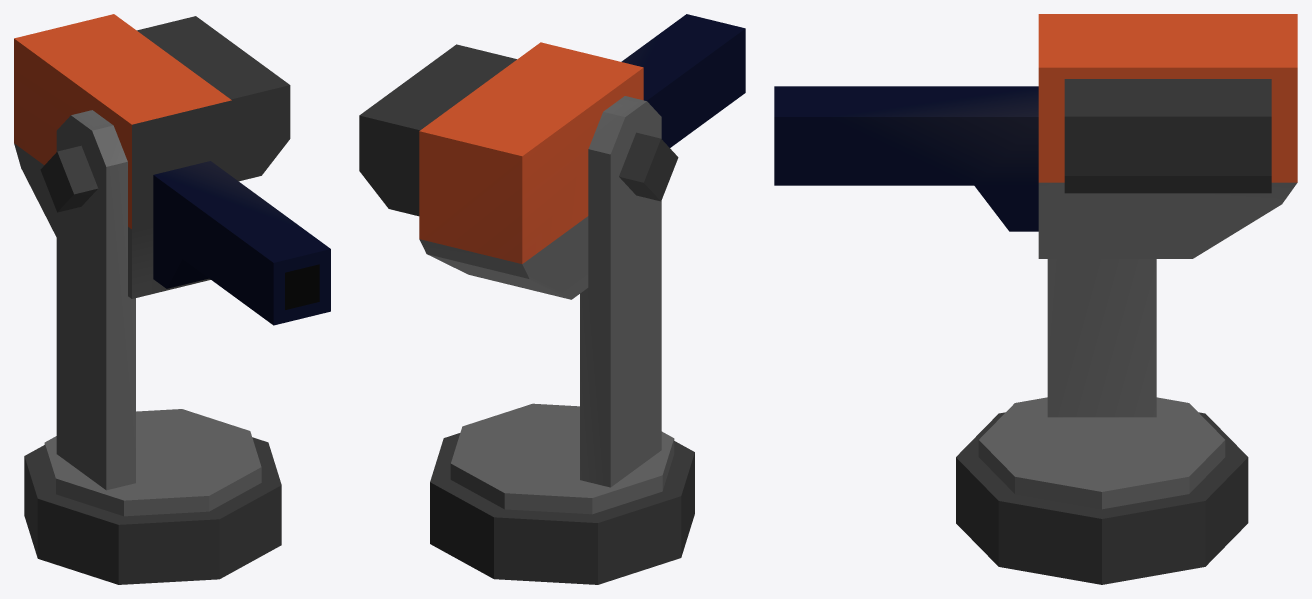
File: turret.glb
The picture shows the model from 3 angles, left to right: view 1: azimuth 30°, elevation 25°; view 2: azimuth 150°, elevation 25°; view 3: azimuth 270°, elevation 25°; orthographic projection. The views are drawn at different scales.
Parts seen in each view (by area): view 1: Cube.001, Cube, Cylinder.002, Cube.002, Cylinder.001, Cube.003; view 2: Cube.001, Cube, Cylinder.002, Cylinder.001, Cube.002, Cube.003; view 3: Cube.001, Cube.002, Cylinder.002, Cylinder.001, Cube.
Boxes of the visible parts, box(x1,y1,x2,y2) form: Cube.001: box(14, 14, 290, 298); Cube: box(56, 110, 135, 490); Cylinder.002: box(24, 437, 281, 584); Cube.002: box(153, 161, 330, 325); Cylinder.001: box(44, 409, 261, 516); Cube.003: box(40, 145, 98, 212); Cube.001: box(359, 42, 643, 299); Cube: box(580, 96, 661, 487); Cylinder.002: box(430, 433, 694, 584); Cylinder.001: box(450, 403, 674, 514); Cube.002: box(621, 14, 745, 147); Cube.003: box(619, 132, 678, 201); Cube.001: box(1038, 14, 1297, 258); Cube.002: box(774, 86, 1038, 231); Cylinder.002: box(956, 412, 1248, 584); Cylinder.001: box(978, 397, 1225, 509); Cube: box(1047, 259, 1156, 417).
Size of the model in its own units: 1.64 by 2.93 by 2.88.
